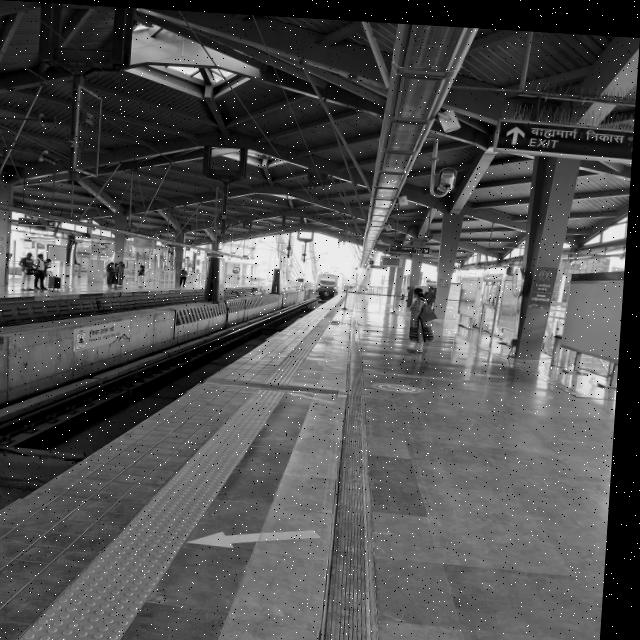train: (316, 262, 354, 302)
